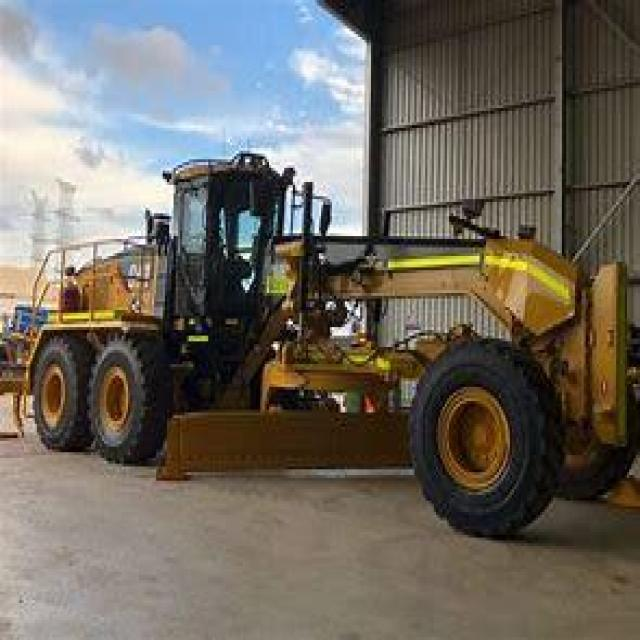buldozerpayloadergrader: (37, 131, 638, 535)
